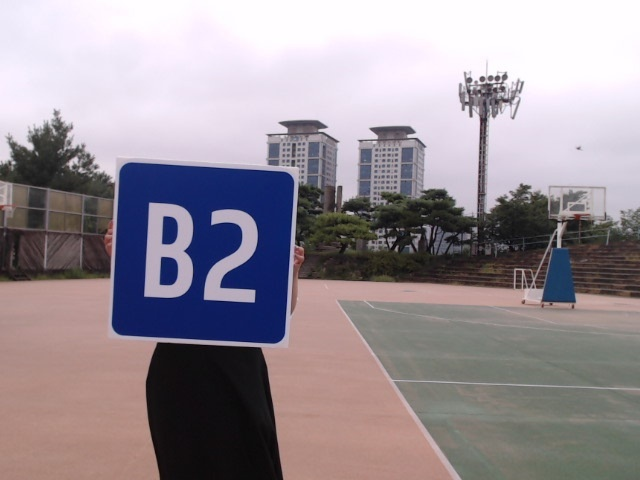delivery_b2: (110, 163, 296, 346)
